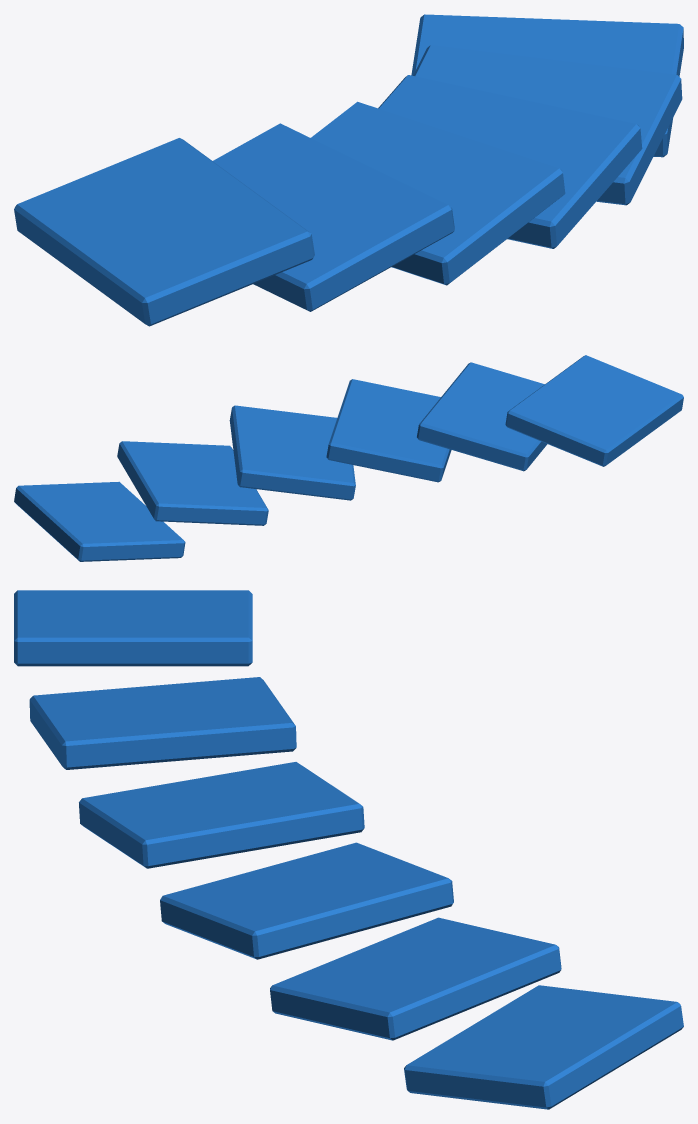
Rendered from ramp_curved.glb.
3 renders of one model, top to bottom at view 1: azimuth 30°, elevation 25°; view 2: azimuth 150°, elevation 25°; view 3: azimuth 270°, elevation 25°, orthographic. The views are drawn at different scales.
Visible parts, largest first — view 1: ramp_curved; view 2: ramp_curved; view 3: ramp_curved.
Part boxes in pixels (x1=…): ramp_curved: x1=14, y1=14, x2=683, y2=326; ramp_curved: x1=14, y1=355, x2=683, y2=561; ramp_curved: x1=14, y1=590, x2=683, y2=1109.
Size of the model in its own units: 1.17 by 0.3005 by 0.8989.
